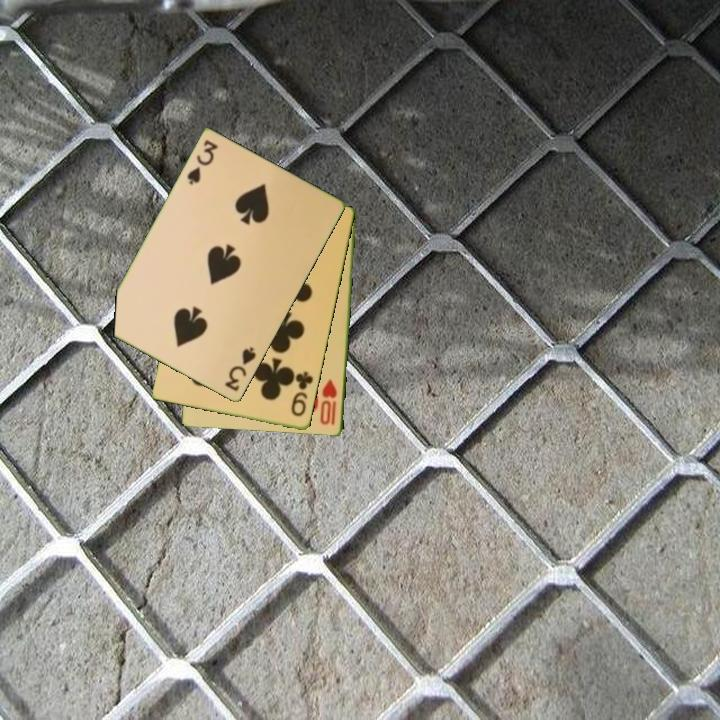10h: (317, 376, 340, 428)
3s: (221, 344, 259, 395), (184, 136, 221, 188)
9c: (288, 368, 316, 420)
